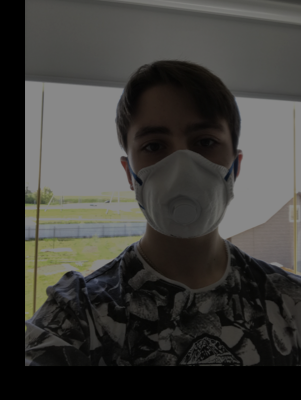with_mask: (125, 110, 240, 239)
